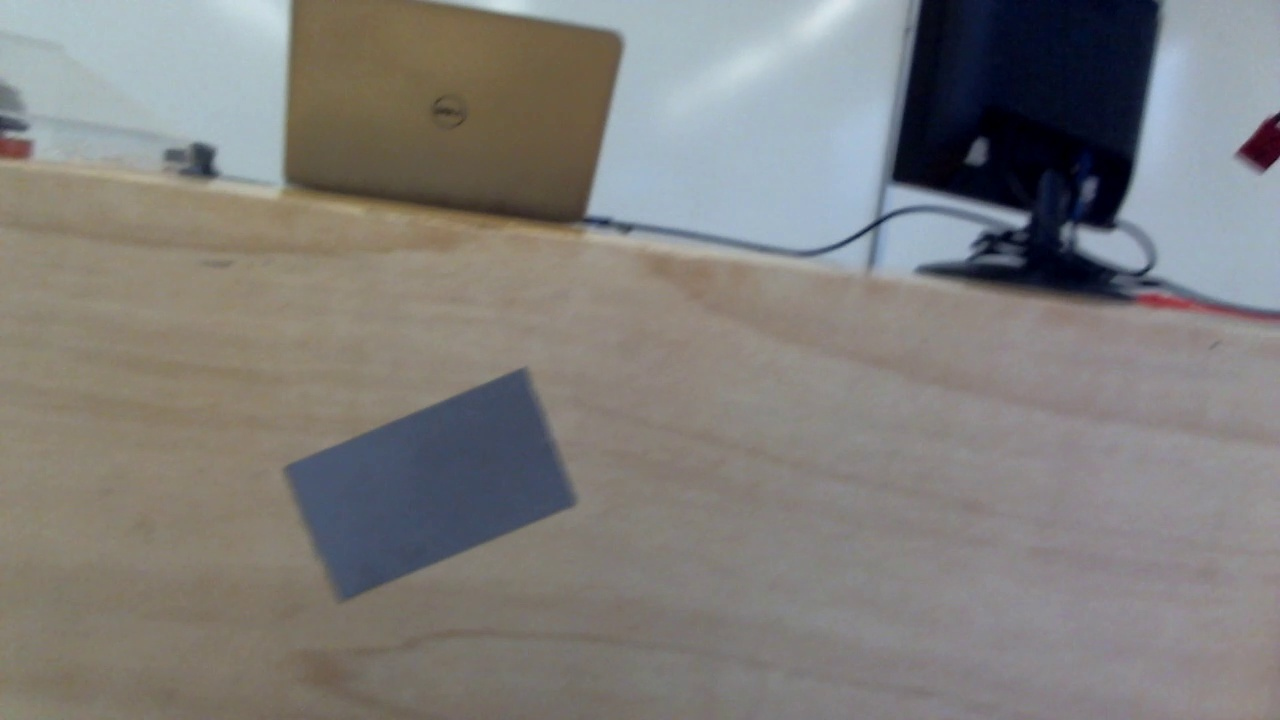Tape: (282, 370, 580, 603)
